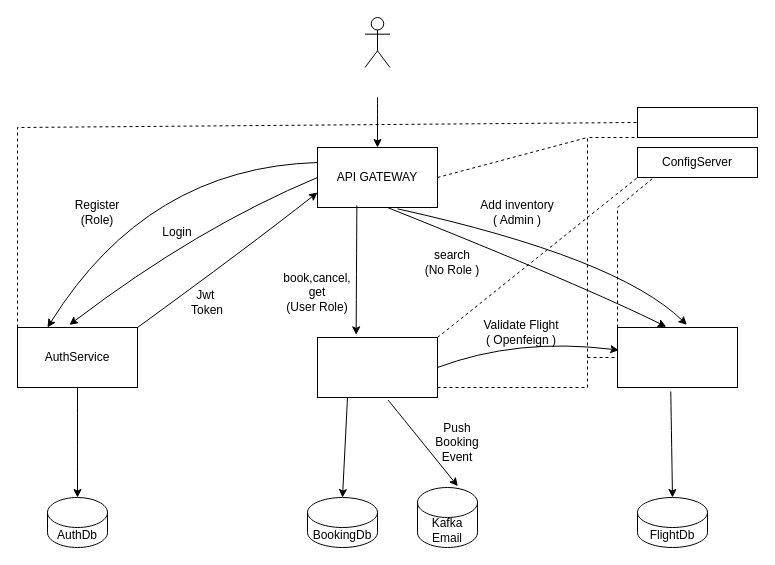
Image size: 775x565. Some labels were removed from this diagram. The shapes that lost their labels are listed below. From the top down, each one's box as (x1, y1, x2, y2) in pixels, then its label:
(364, 16, 390, 68): Client
(636, 106, 758, 138): EurekServer
(316, 336, 438, 398): BookingService
(616, 326, 738, 388): FlightService
